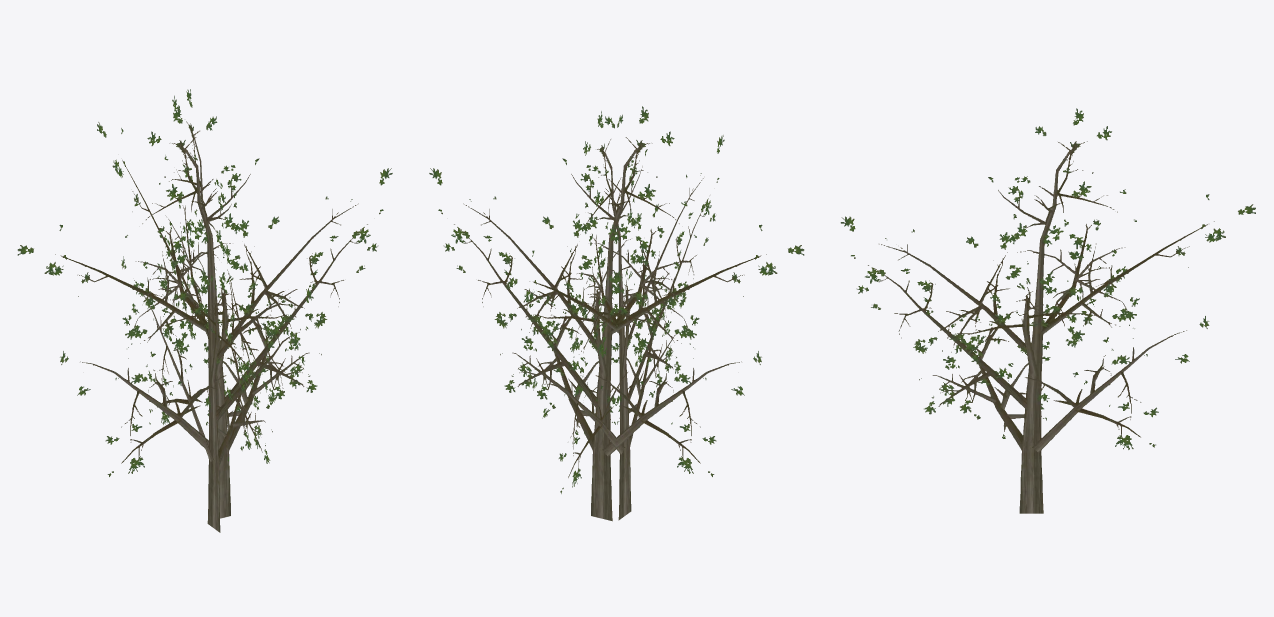
File: dead_ash_far.glb
The picture shows the model from 3 angles, left to right: view 1: azimuth 30°, elevation 25°; view 2: azimuth 150°, elevation 25°; view 3: azimuth 270°, elevation 25°; orthographic projection. The views are drawn at different scales.
Visible parts, largest first — view 1: impostor; view 2: impostor; view 3: impostor.
Part boxes in pixels (x1,y1,x2,y2): impostor: (17,89,392,532); impostor: (429,106,804,521); impostor: (840,108,1255,513).
Size of the model in its own units: 6.55 by 7 by 6.55.
1 material, 1 textured.
